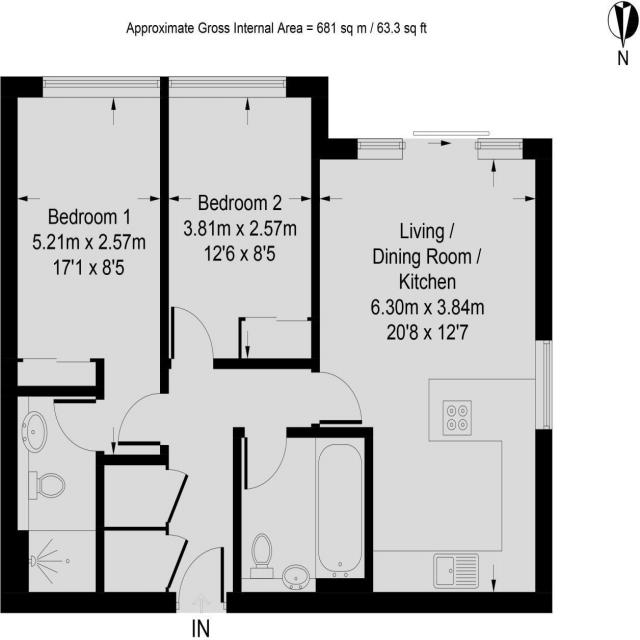DOOR: (175, 542, 227, 613), (311, 367, 368, 426), (114, 389, 169, 449), (243, 427, 292, 492), (169, 302, 215, 369), (51, 398, 98, 453)
ROOM: (311, 135, 553, 614), (0, 75, 169, 464), (160, 75, 328, 371)
WINDOW: (166, 74, 289, 102), (40, 74, 161, 100), (533, 337, 555, 433)
